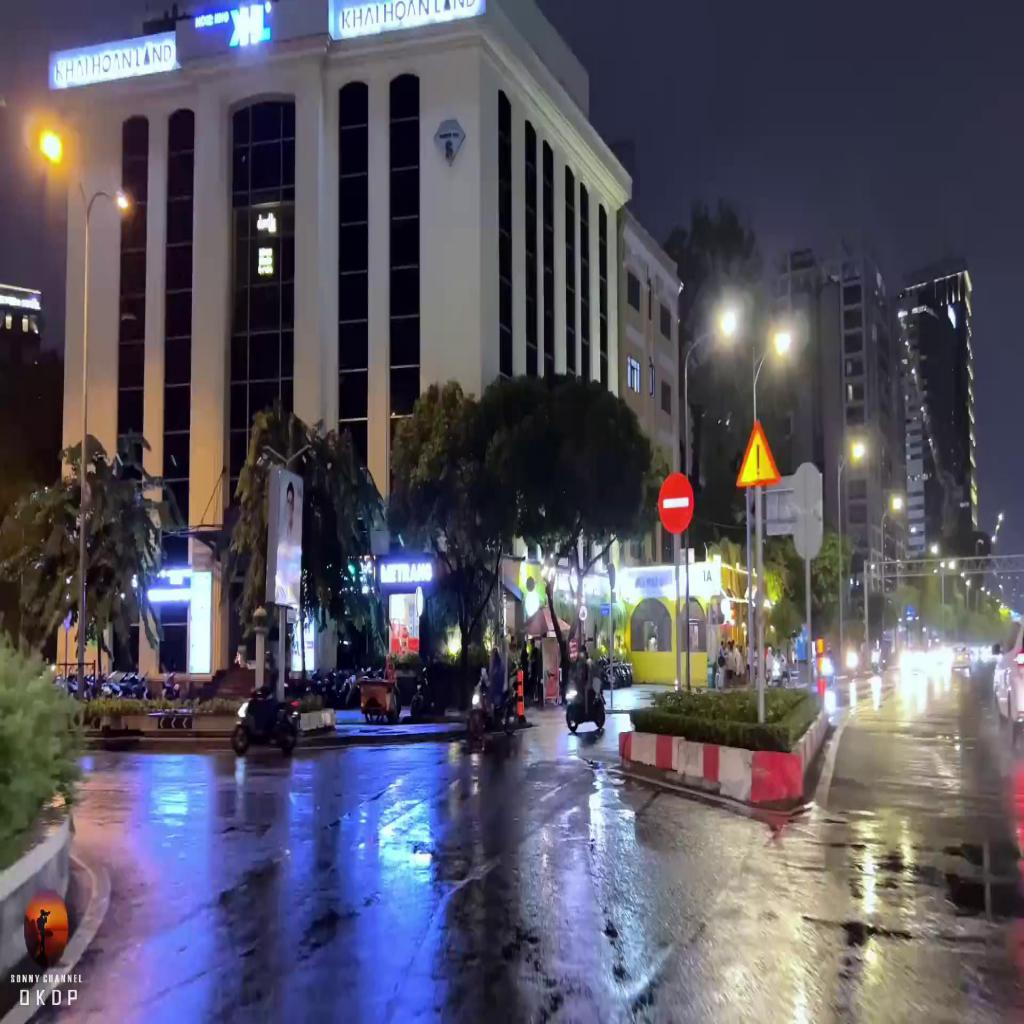cam_xe_di_nguoc_chieu: (656, 472, 693, 535)
nguy_hiem_khac: (735, 419, 783, 487)
